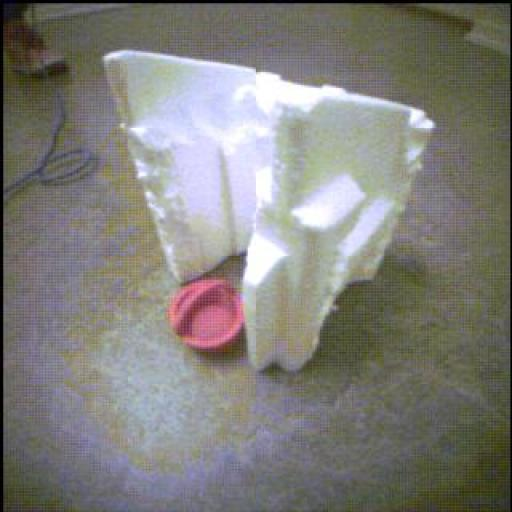Bucket: (167, 276, 249, 359)
